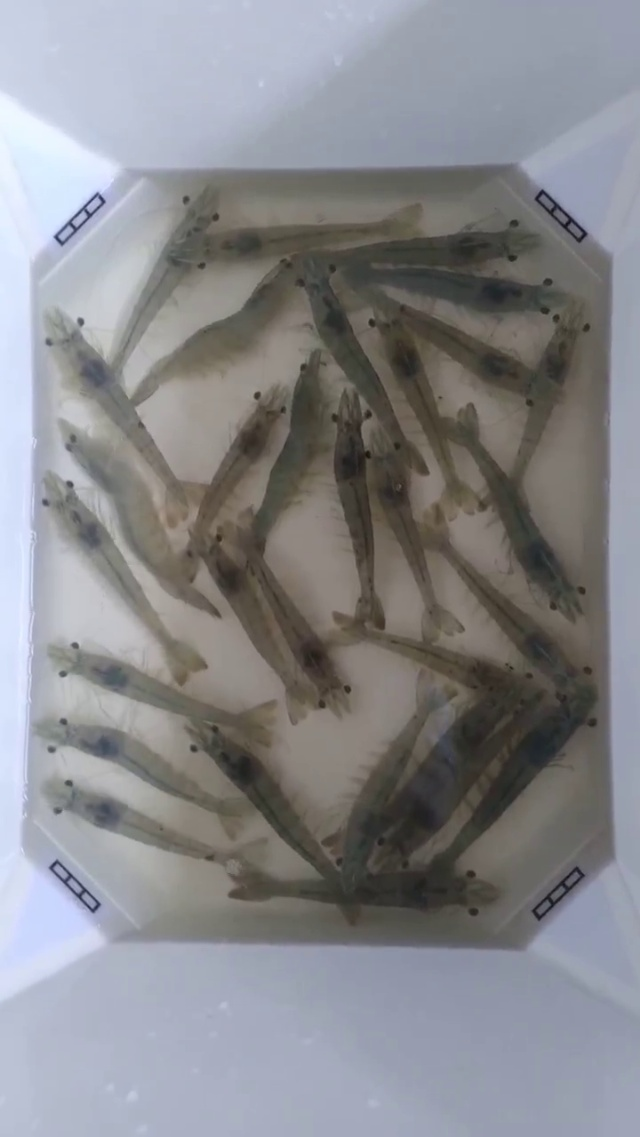shrimp: (557, 195, 639, 500), (75, 338, 187, 526), (312, 295, 427, 478), (577, 498, 639, 832), (477, 304, 587, 481), (414, 777, 526, 944), (31, 189, 135, 353), (454, 168, 567, 313), (31, 572, 135, 726), (44, 472, 148, 617), (192, 175, 291, 321), (50, 721, 162, 842), (128, 525, 219, 670), (383, 636, 511, 739), (263, 218, 390, 320), (146, 818, 249, 939), (189, 410, 272, 559), (504, 521, 581, 656), (301, 801, 372, 926), (0, 214, 33, 482), (286, 613, 364, 723), (0, 382, 34, 633), (48, 782, 102, 912), (422, 440, 484, 548), (174, 690, 276, 752)
